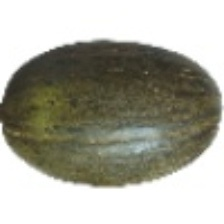honeydew: (42, 13, 177, 195)
